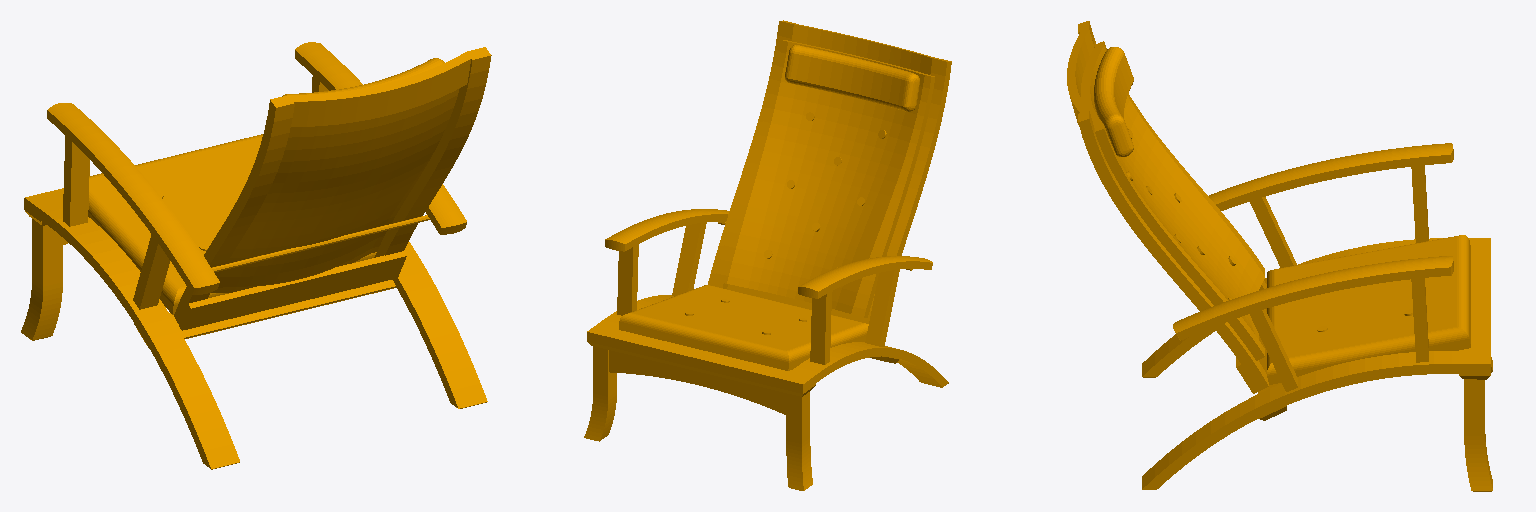
The robot description file, URDF, robot "4353aa4950c32e12f1783a44a88d6274":
<?xml version="1.0" ?>
<robot name="4353aa4950c32e12f1783a44a88d6274">

  <link name="base">

    <inertial>
      <mass value="1"/>
      <inertia ixx="1" ixy="0" ixz="0" iyy="1" iyz="0" izz="1"/>
    </inertial>

    <visual>
      <origin rpy="1.57079 0 0" xyz="0 0 0.34"/>
      <geometry>
        <mesh filename ="models/model_normalized.obj" scale="1 1 1"/>
      </geometry>
    </visual>

    <collision>
      <origin rpy="1.57079 0 0" xyz="0 0 0.34"/>
      <geometry>
        <mesh filename ="models/model_normalized.obj" scale="1 1 1"/>
      </geometry>
    </collision>

  </link>
  
</robot>

--- Render facts (derived) ---
3 views of the same robot in one strip: view 1: azimuth 30°, elevation 25°; view 2: azimuth 150°, elevation 25°; view 3: azimuth 270°, elevation 25° (orthographic).
Robot: 4353aa4950c32e12f1783a44a88d6274 — 1 links, 0 joints (none); root link base; default pose: every joint at zero.
Visible links, largest first — view 1: base; view 2: base; view 3: base.
Boxes of the visible links, x1,y1,x2,y2 form: base: (21, 42, 491, 469); base: (584, 20, 951, 490); base: (1067, 21, 1492, 491).
Bounding box of the posed robot: 0.4618 × 0.6495 × 0.6041 m (x, y, z).
Meshes: 1 distinct files referenced, 1 mesh visuals loaded (1 OBJ).